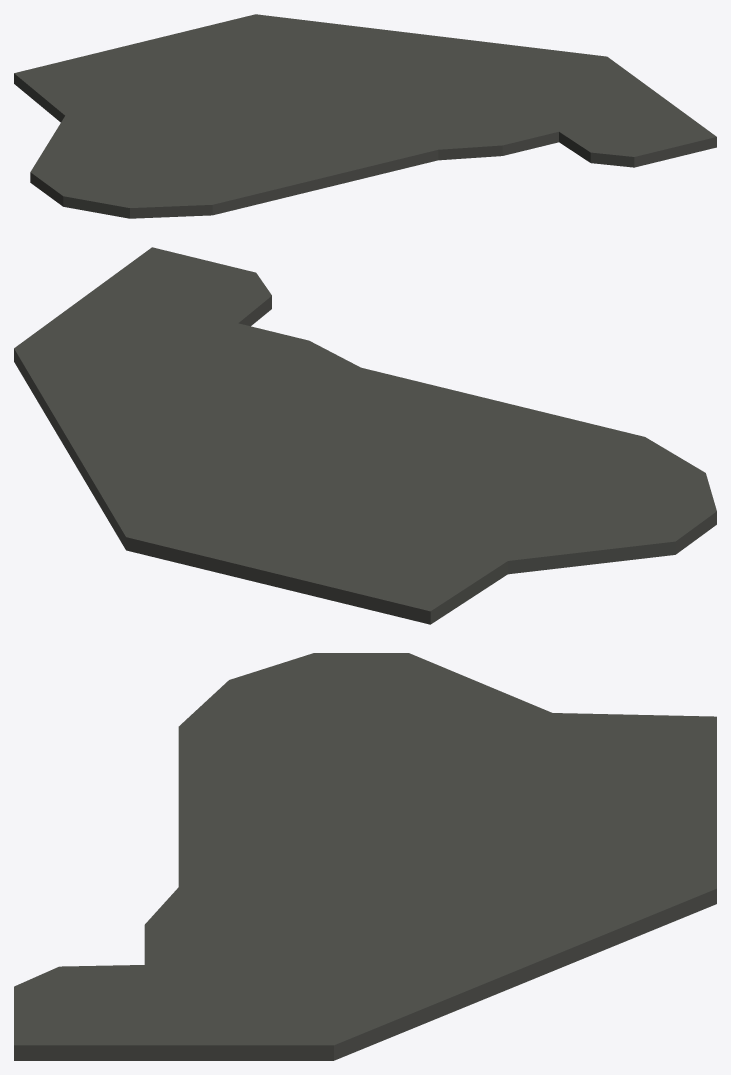
Rendered from DD_Ground03.fbx.
3 views of the same model, one above another, from view 1: azimuth 30°, elevation 25°; view 2: azimuth 150°, elevation 25°; view 3: azimuth 270°, elevation 25° (orthographic). The views are drawn at different scales.
Parts seen in each view (by area): view 1: DD_Ground03; view 2: DD_Ground03; view 3: DD_Ground03.
Part boxes in pixels (bbox=[...]): DD_Ground03: bbox=[14, 14, 716, 218]; DD_Ground03: bbox=[14, 247, 716, 624]; DD_Ground03: bbox=[14, 653, 716, 1060].
Bounding box in the file's own units: 817 × 15 × 619.
1 material, 1 textured.
